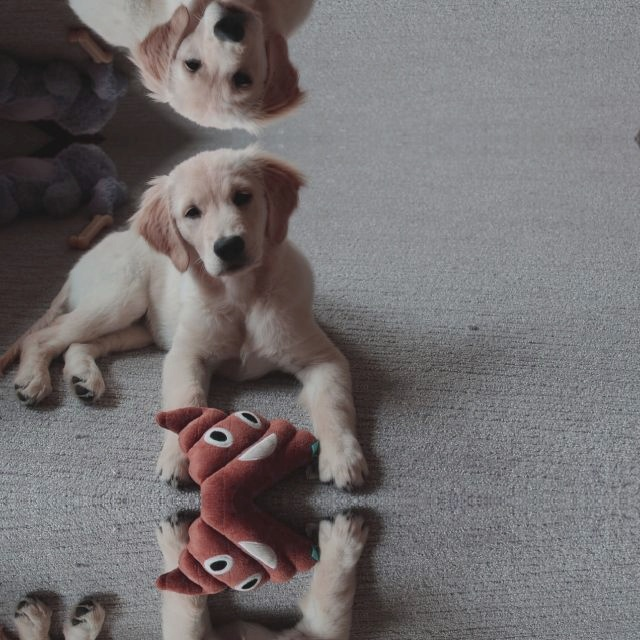dog: (131, 138, 313, 302), (131, 0, 313, 138)
